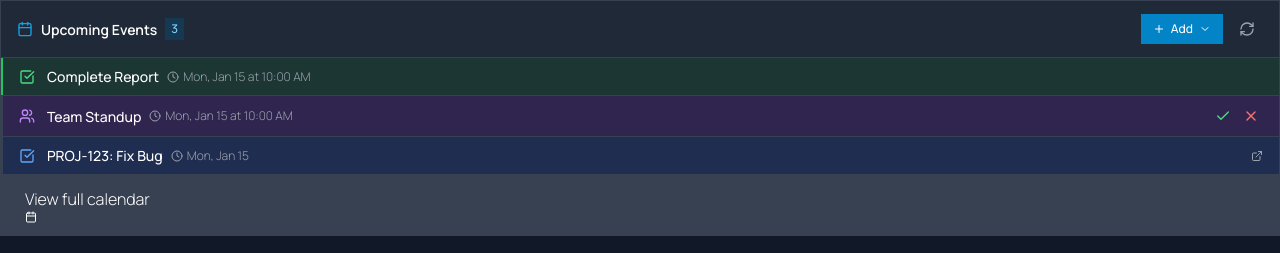
Scenario: CalendarWidget › action buttons › shows Time Off for Employee option for supervisors
Click the button "Add" at coordinates (1182, 29), box x1=1141 y1=14 x2=1223 y2=44
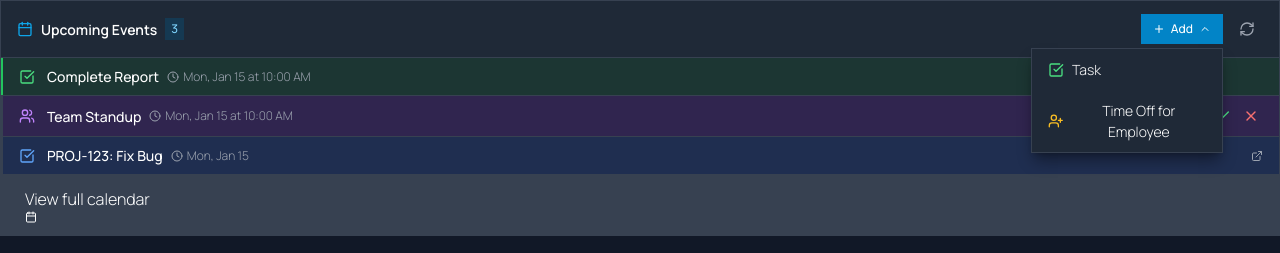
Expected: the button "Time Off for Employee" is shown, x1=1032 y1=90 x2=1222 y2=152
